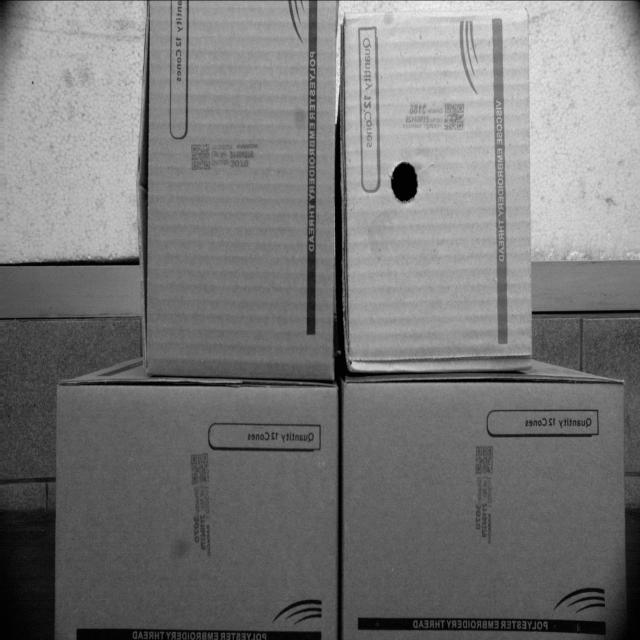cardboxes: (142, 0, 336, 385), (342, 383, 625, 639), (55, 383, 339, 637), (346, 17, 526, 368)
